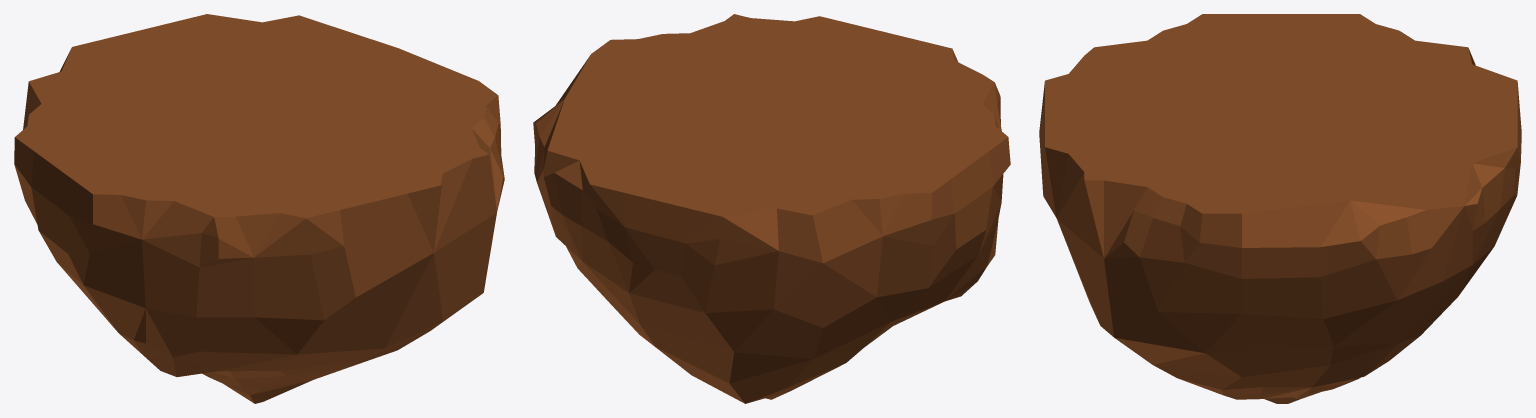
File: bas.fbx
3 views of the same model, side by side, from view 1: azimuth 30°, elevation 25°; view 2: azimuth 150°, elevation 25°; view 3: azimuth 270°, elevation 25° (orthographic). The views are drawn at different scales.
Visible parts, largest first — view 1: Icosphere; view 2: Icosphere; view 3: Icosphere.
Part boxes in pixels (x1,y1,x2,y2): Icosphere: (14, 14, 504, 403); Icosphere: (533, 14, 1010, 403); Icosphere: (1039, 14, 1521, 403).
Size of the model in its own units: 182 by 120 by 183.
